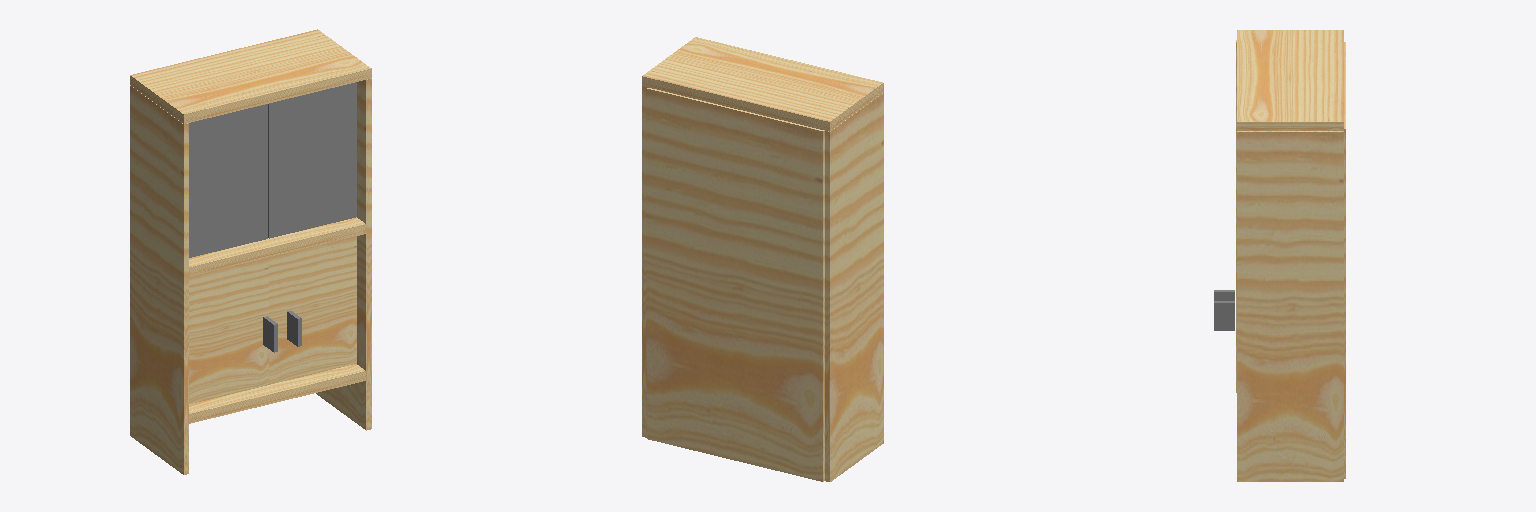
The picture shows the model from 3 angles: view 1: azimuth 30°, elevation 25°; view 2: azimuth 150°, elevation 25°; view 3: azimuth 270°, elevation 25°; orthographic projection.
Parts seen in each view (by area): view 1: Box001, Box004, Box012, Box011, Box008, Box007, Box003, Box006, Box005; view 2: Box002, Box001, Box004, Box003; view 3: Box003, Box004, Box002, Box010.
Boxes of the visible parts, x1=… form: Box001: x1=130, y1=85, x2=188, y2=474; Box004: x1=130, y1=29, x2=371, y2=123; Box012: x1=268, y1=82, x2=356, y2=238; Box011: x1=189, y1=104, x2=267, y2=257; Box008: x1=269, y1=236, x2=356, y2=384; Box007: x1=189, y1=258, x2=268, y2=403; Box003: x1=316, y1=78, x2=371, y2=430; Box006: x1=189, y1=364, x2=365, y2=423; Box005: x1=189, y1=217, x2=365, y2=276; Box002: x1=647, y1=88, x2=824, y2=481; Box001: x1=825, y1=93, x2=883, y2=481; Box004: x1=642, y1=37, x2=883, y2=131; Box003: x1=642, y1=86, x2=647, y2=437; Box003: x1=1237, y1=131, x2=1343, y2=481; Box004: x1=1237, y1=30, x2=1343, y2=130; Box002: x1=1344, y1=42, x2=1345, y2=478; Box010: x1=1214, y1=301, x2=1234, y2=330.
Size of the model in its own units: 39.79 by 72.87 by 24.32.
3 materials, 1 textured.